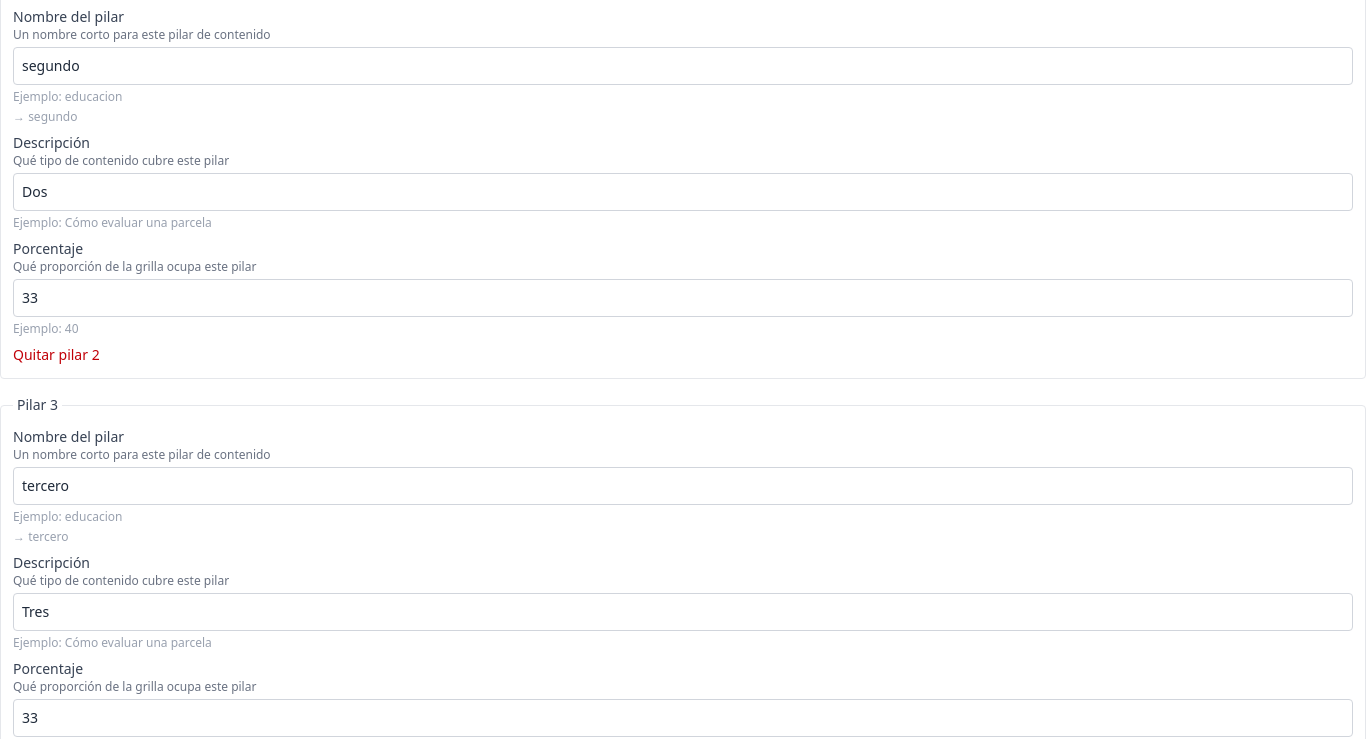
it: SeccionPilares › al quitar el pilar del medio, la fila que queda en su lugar muestra su propio nombre
The width and height of the screenshot is (1366, 739).
(page scrolled)
Click the button "Quitar pilar 2" at (56, 355), box [13, 345, 100, 365]
(page scrolled)
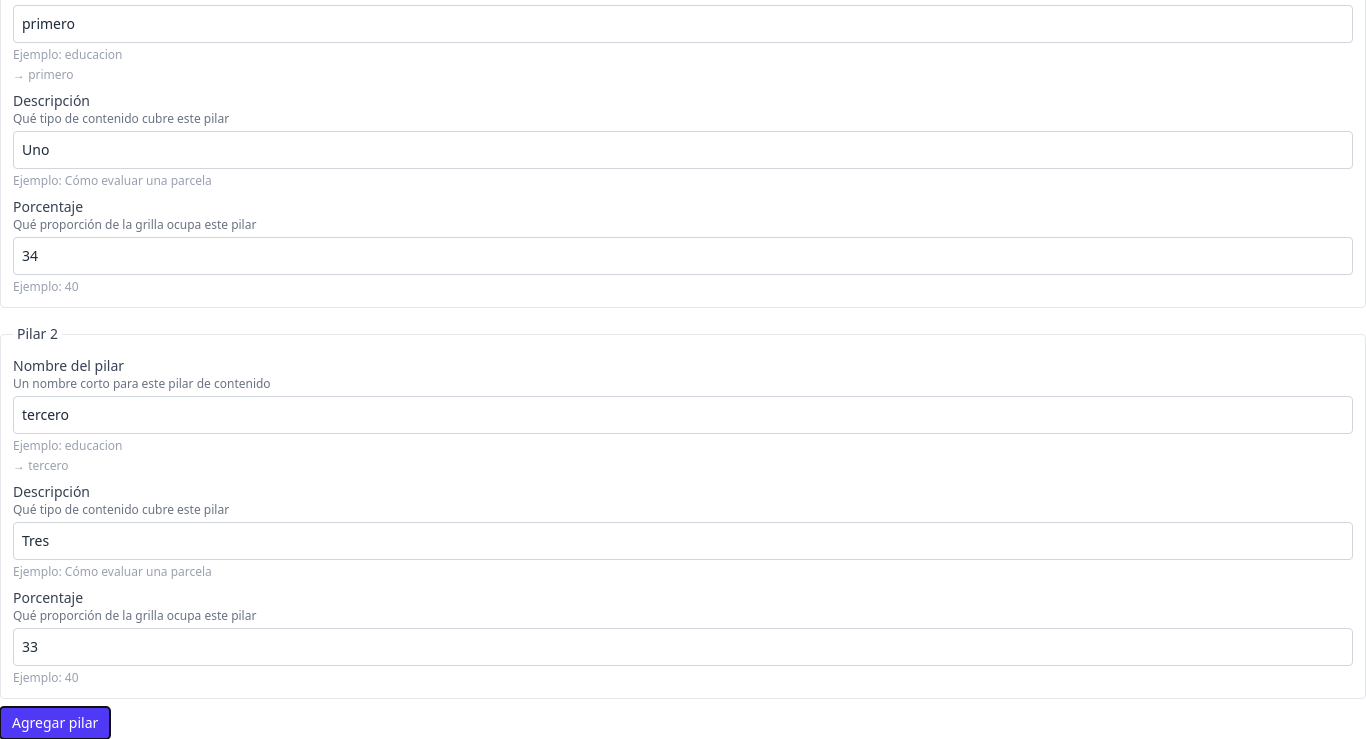
Expected: the number of fields labelled "Nombre del pilar" is 2, [13, 5, 1353, 43]; [13, 396, 1353, 434]
Expected: the 2nd field labelled "Nombre del pilar" holds "tercero", [13, 396, 1353, 434]
